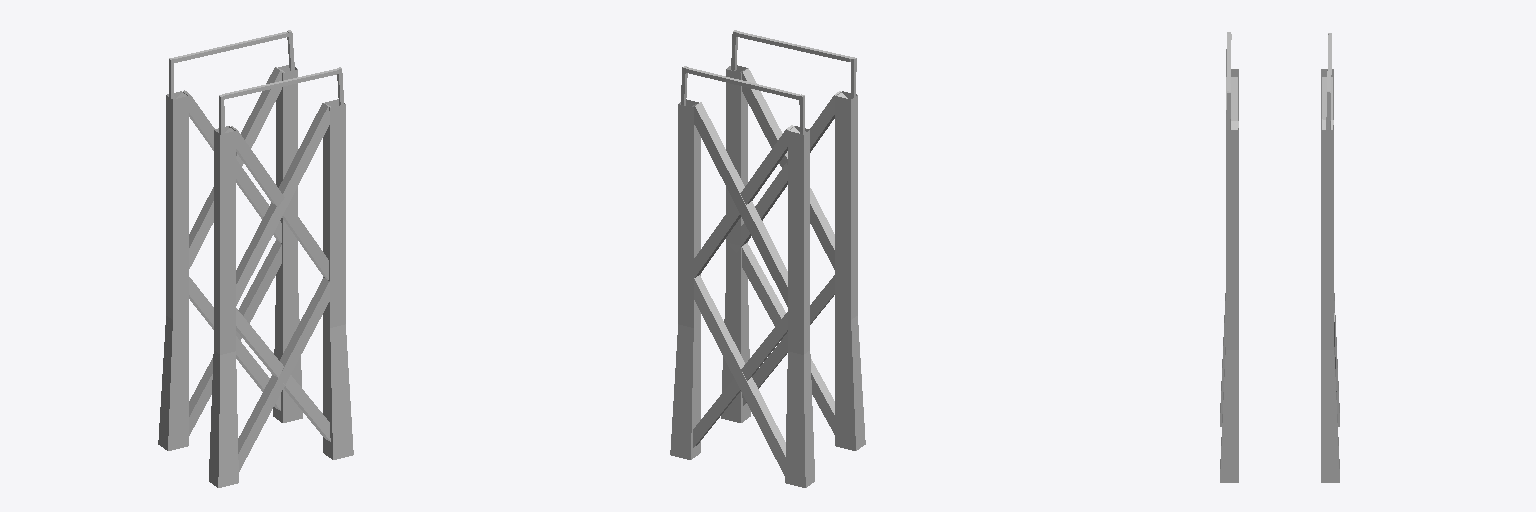
Rendered from scaf.obj.
3 renders of one model, left to right at view 1: azimuth 30°, elevation 25°; view 2: azimuth 150°, elevation 25°; view 3: azimuth 270°, elevation 25°, orthographic.
Visible parts, largest first — view 1: scaf; view 2: scaf; view 3: scaf.
Part boxes in pixels (left/top/right/bottom): scaf: left=158, top=30, right=353, bottom=487; scaf: left=670, top=30, right=865, bottom=487; scaf: left=1220, top=32, right=1339, bottom=482.
Size of the model in its own units: 3.25 by 8.88 by 2.5.